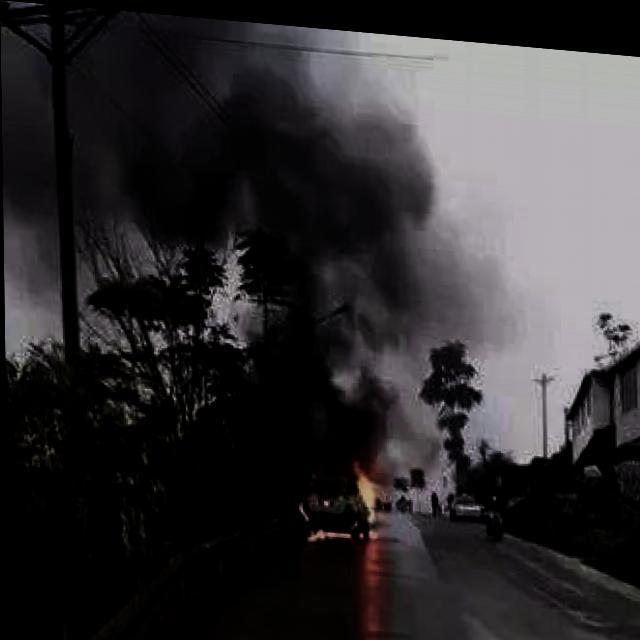Fire: (295, 446, 381, 546)
